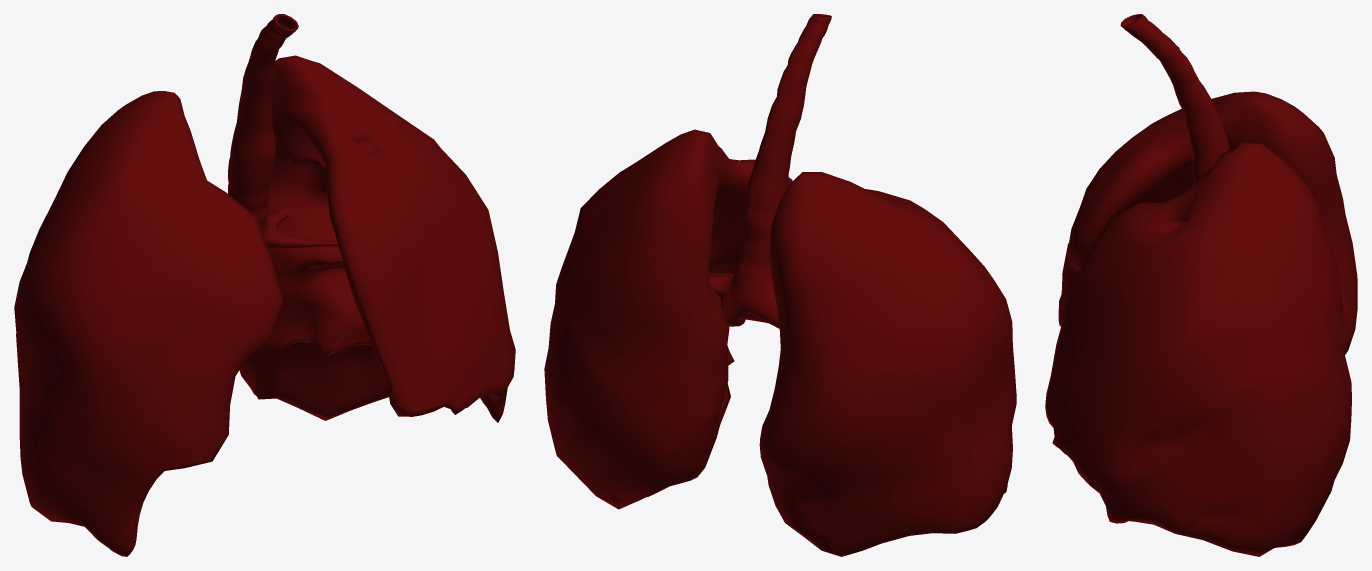
The model's file is lung.glb.
3 views of the same model, side by side, from view 1: azimuth 30°, elevation 25°; view 2: azimuth 150°, elevation 25°; view 3: azimuth 270°, elevation 25° (orthographic). The views are drawn at different scales.
Visible parts, largest first — view 1: model_8; view 2: model_8; view 3: model_8.
Part boxes in pixels (<box>): model_8: <box>14,14,515,556</box>; model_8: <box>544,14,1016,556</box>; model_8: <box>1045,14,1357,556</box>.
Size of the model in its own units: 1.24 by 1.3 by 0.7904.
